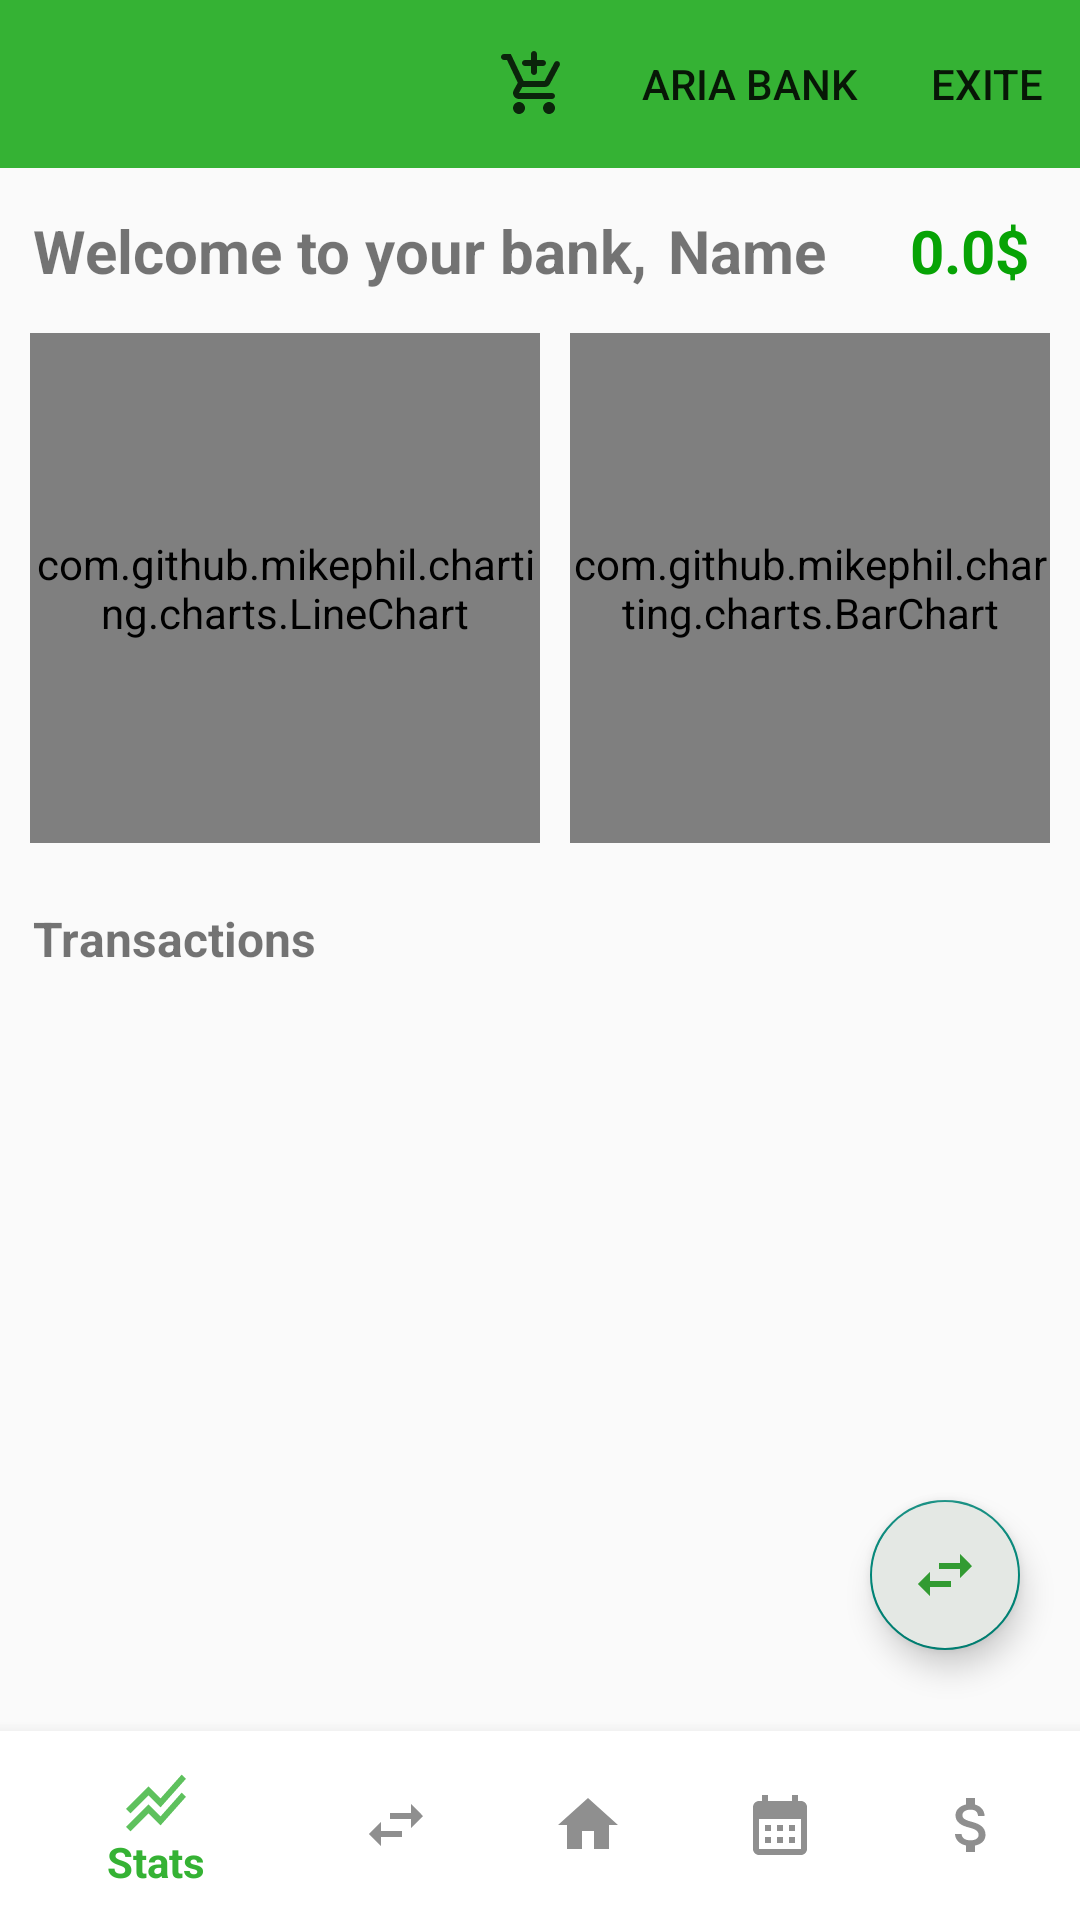

Icons on this 1080px x 1920px Android screen, each with its box as [x1,y1,x2,y2]:
transaction: [870,1500,1020,1650]
